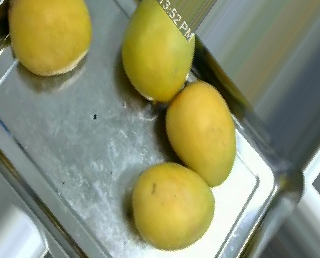Mango: (162, 78, 239, 188), (118, 0, 197, 103), (134, 160, 220, 252), (5, 1, 100, 79)
